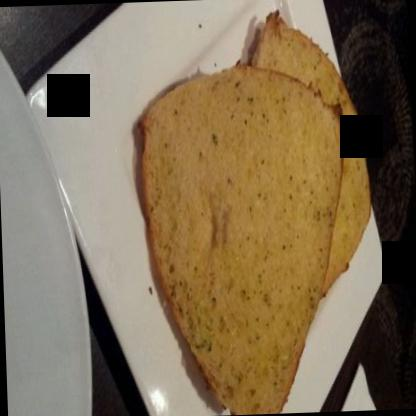toast bread: (126, 55, 357, 415), (244, 11, 374, 298)
